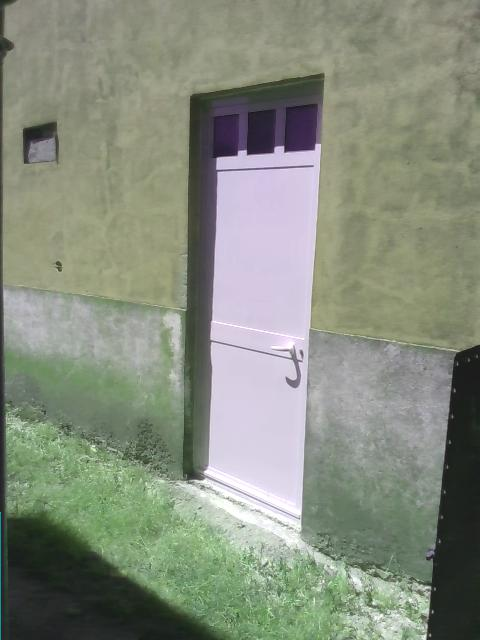closed_door: (183, 74, 322, 530)
